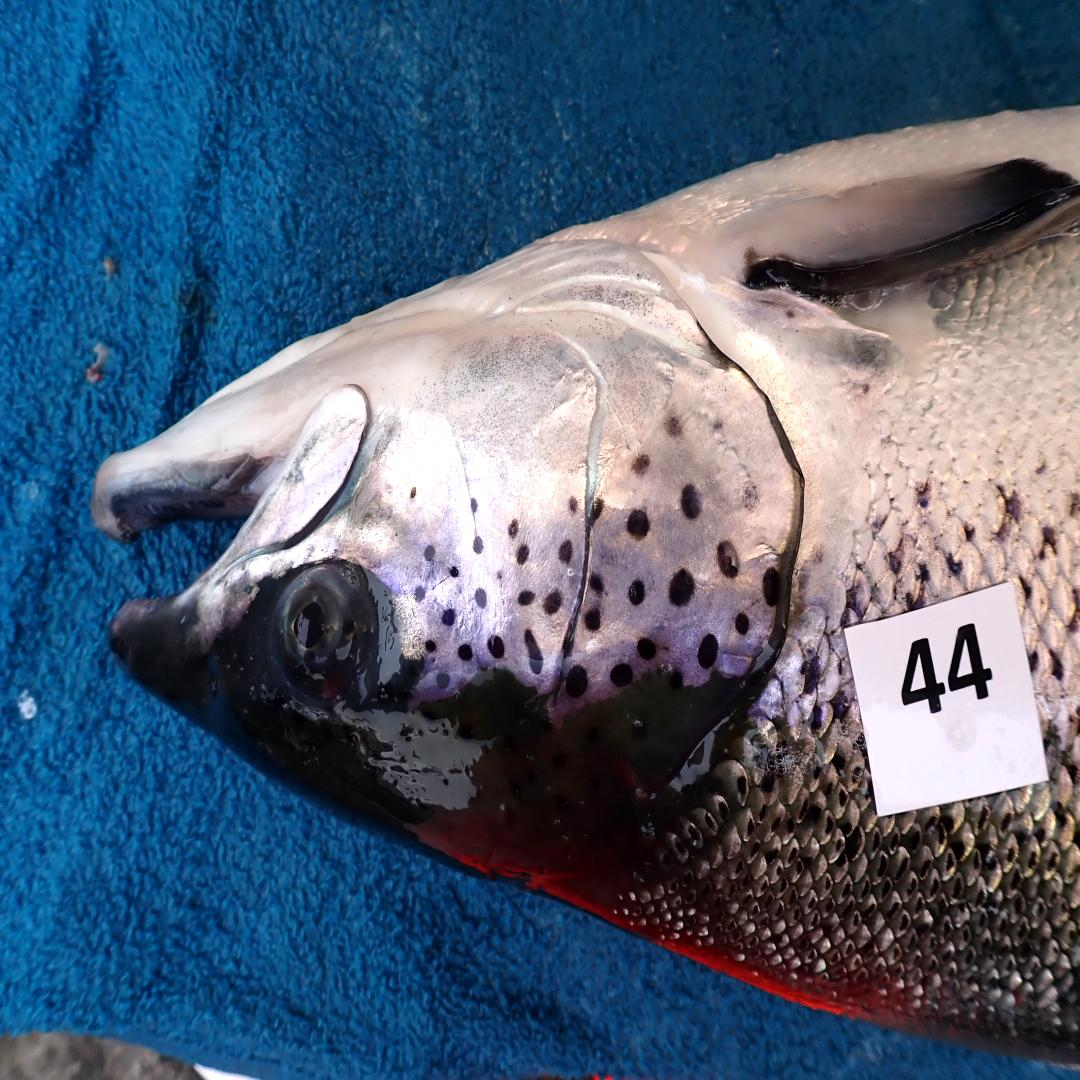roi: (367, 230, 799, 723)
